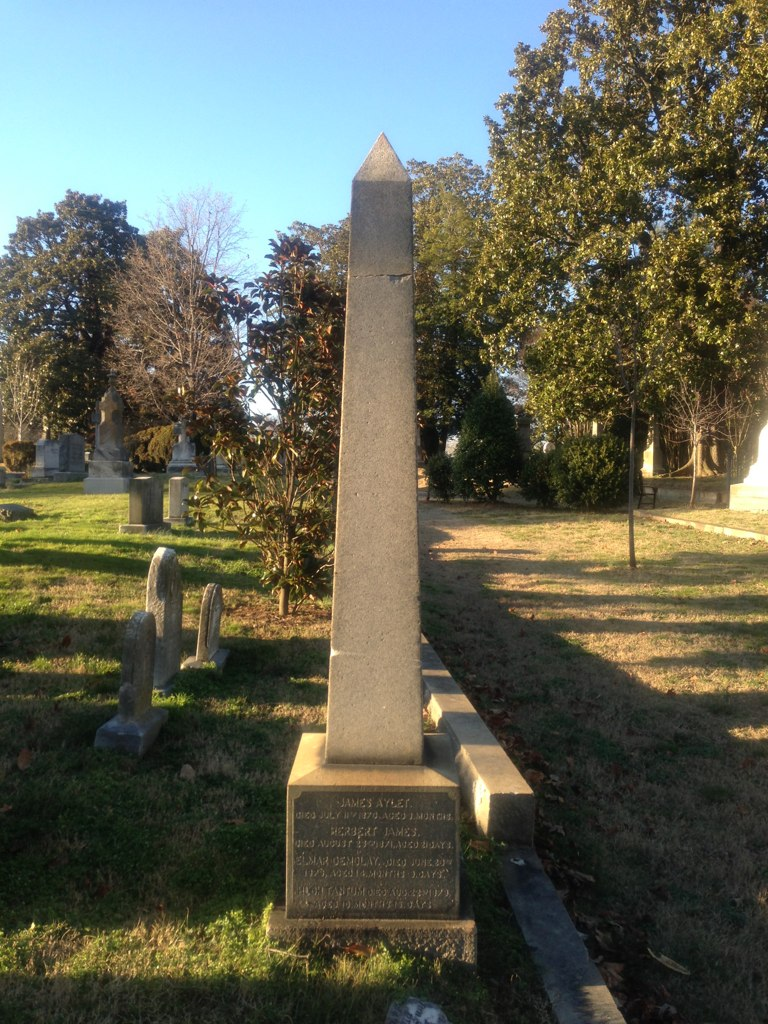obelisk: (287, 136, 464, 940)
